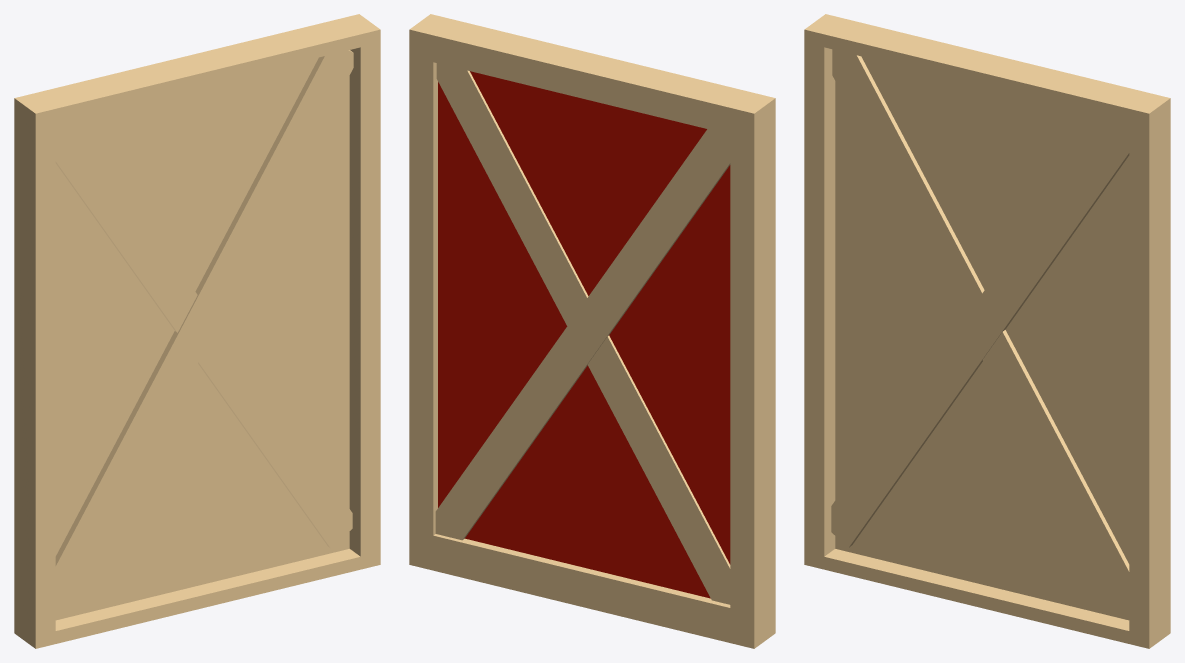
File: PintuBarnKiri.glb
The picture shows the model from 3 angles, left to right: view 1: azimuth 30°, elevation 25°; view 2: azimuth 150°, elevation 25°; view 3: azimuth 330°, elevation 25°; orthographic projection.
Parts seen in each view (by area): view 1: Cube.013; view 2: Cube.013; view 3: Cube.013.
Part boxes in pixels (x1,y1,x2,y2): Cube.013: [14, 14, 380, 648]; Cube.013: [409, 14, 775, 648]; Cube.013: [804, 14, 1170, 648].
Size of the model in its own units: 0.9911 by 1.47 by 0.1058.
